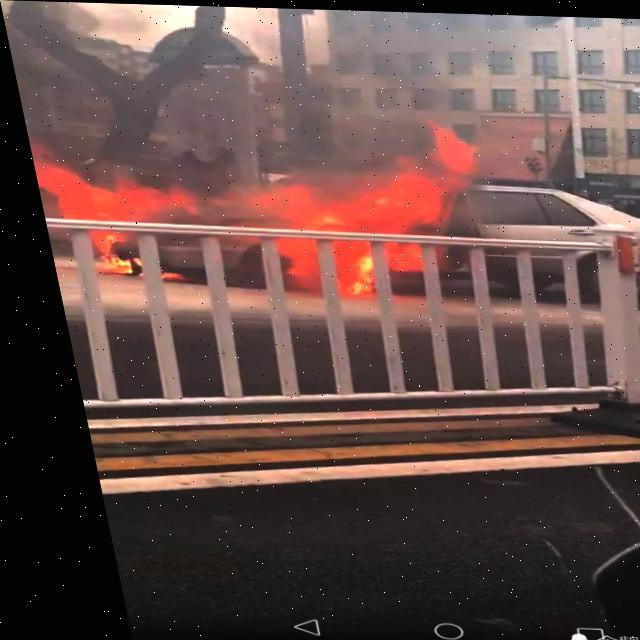Fire: (37, 144, 480, 296)
